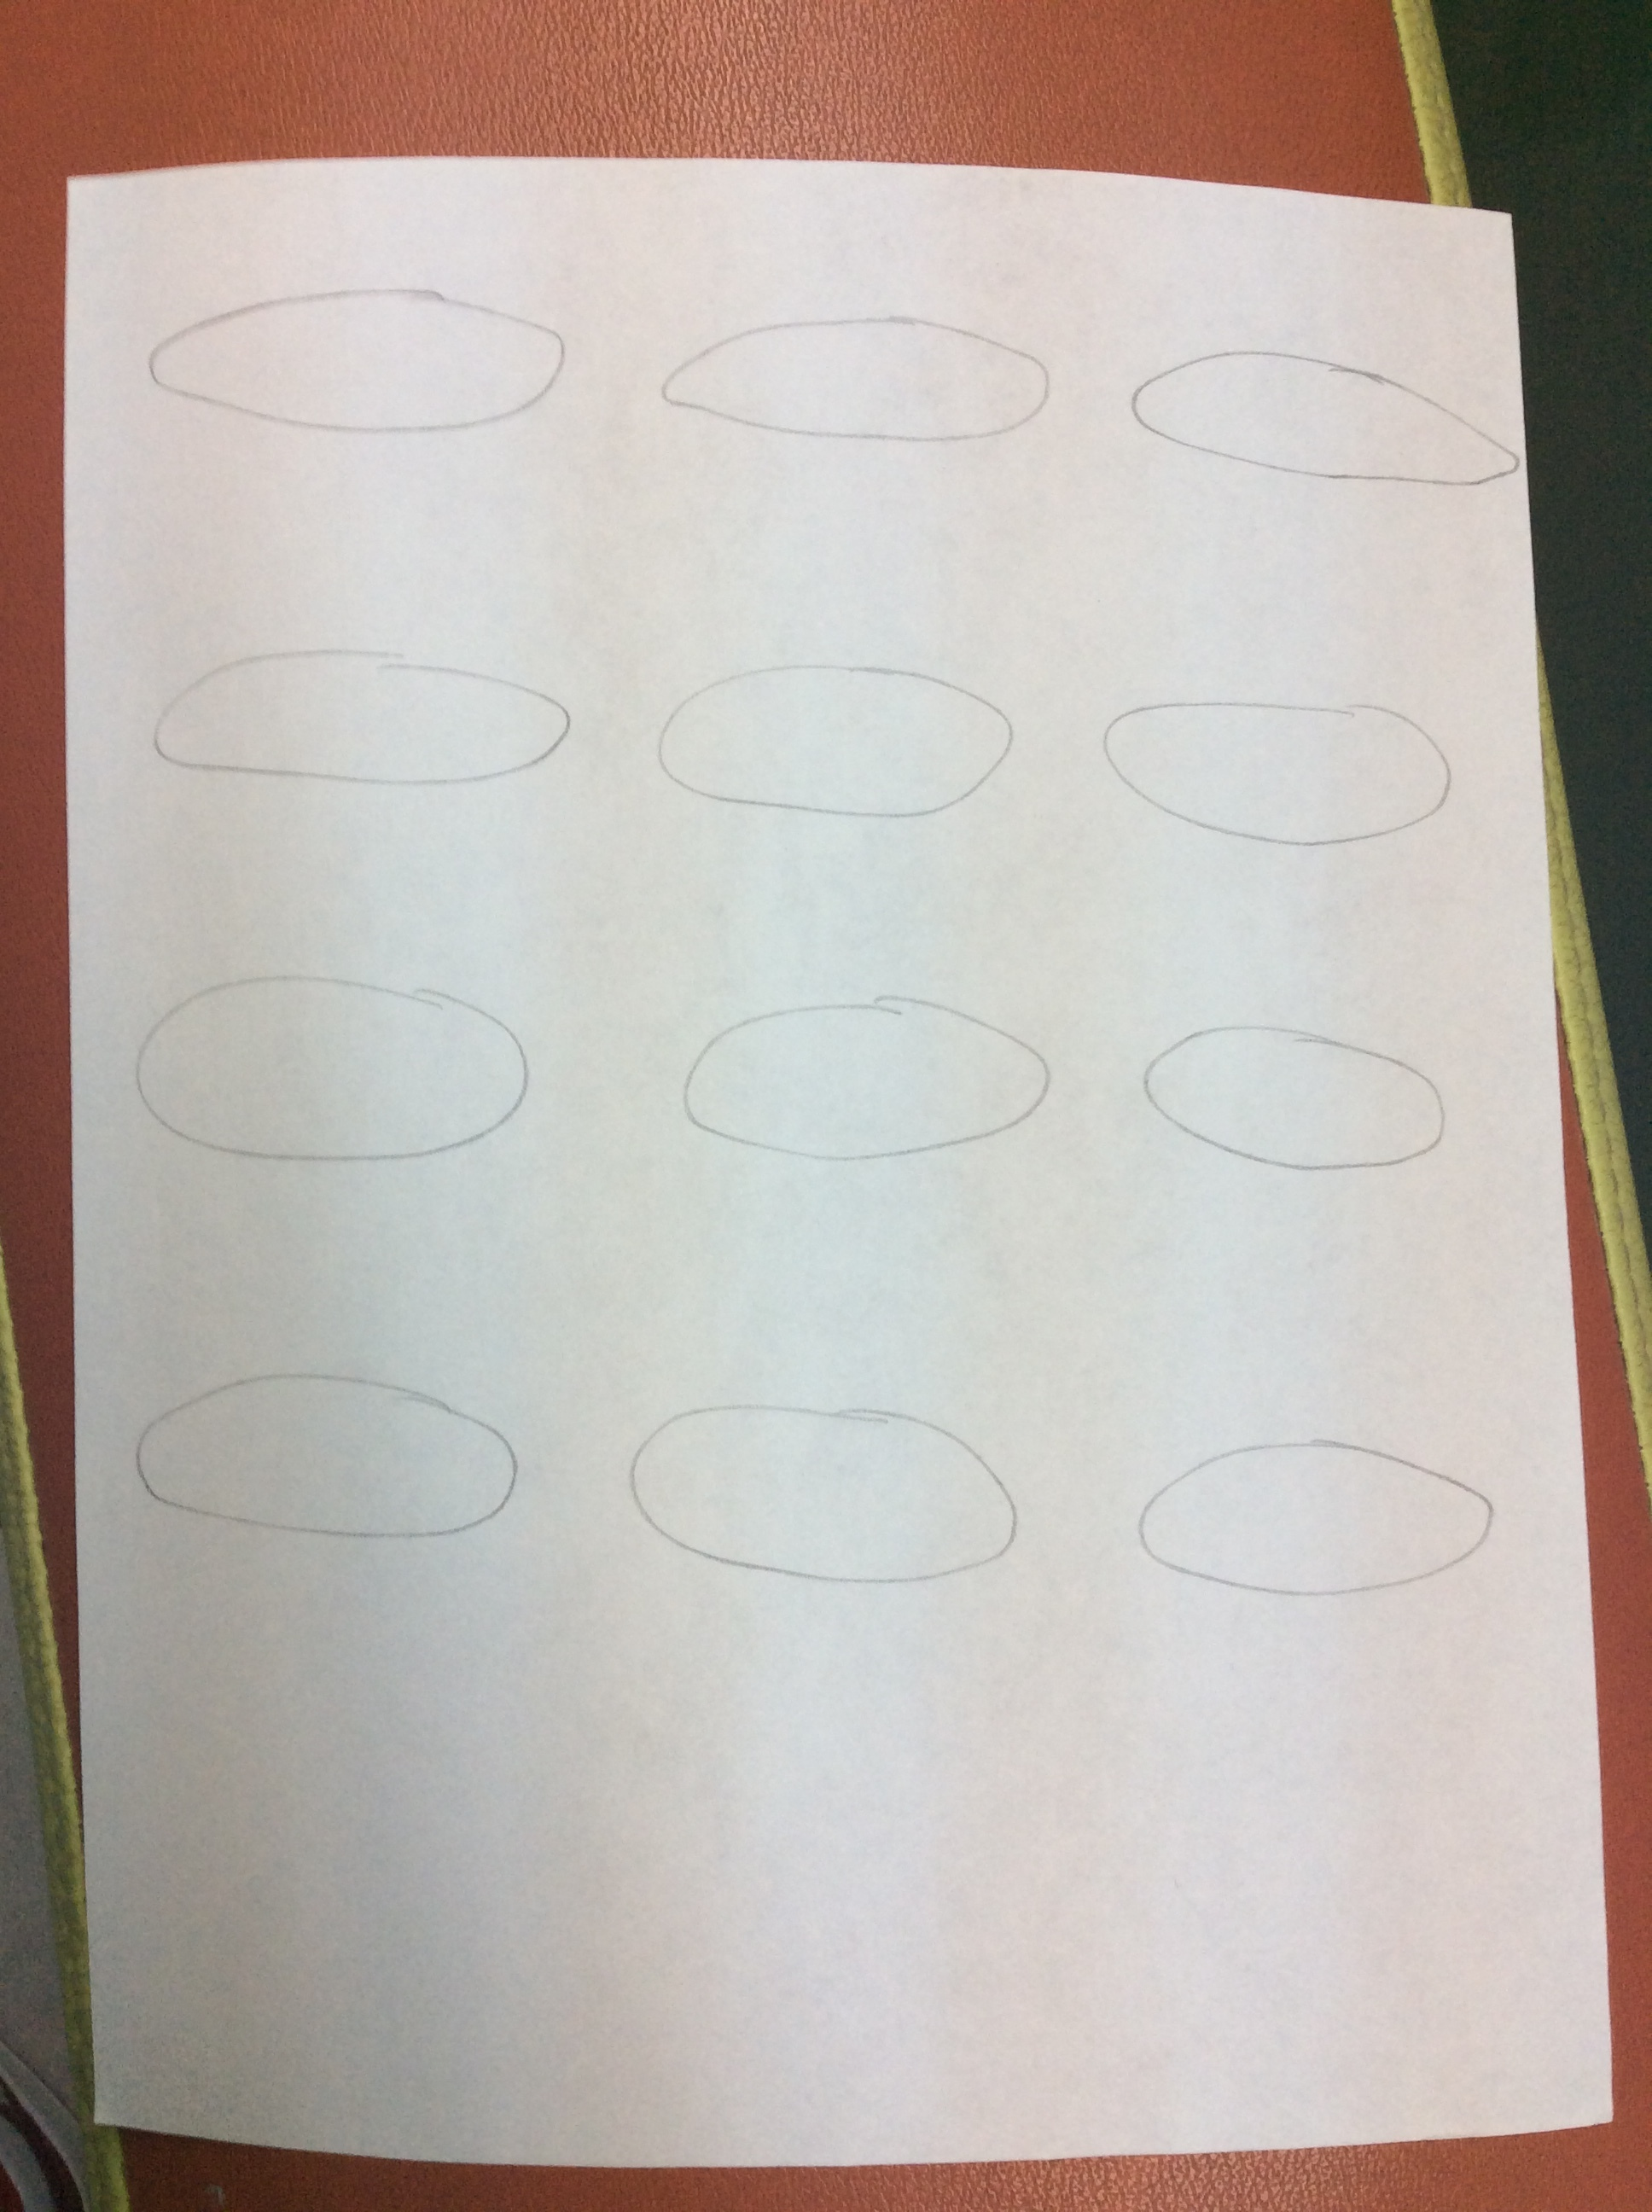start_end: (619, 1345, 1043, 1622), (115, 946, 559, 1195), (1114, 1386, 1537, 1648), (1085, 632, 1498, 885), (1124, 283, 1517, 540), (630, 265, 1067, 491), (111, 1341, 541, 1563), (644, 963, 1067, 1188), (135, 257, 585, 468), (115, 611, 578, 812), (633, 621, 1029, 854), (1128, 980, 1470, 1202)
